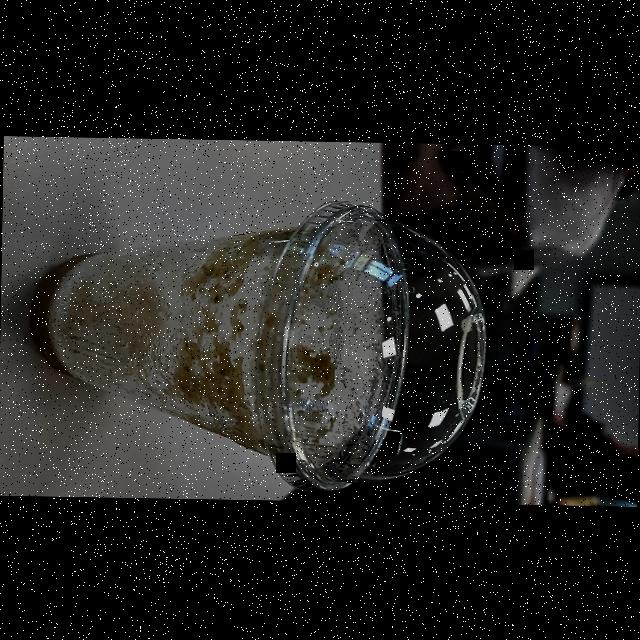plastic_cup: (26, 194, 490, 494)
plastic_cup_lid: (250, 196, 490, 499)
